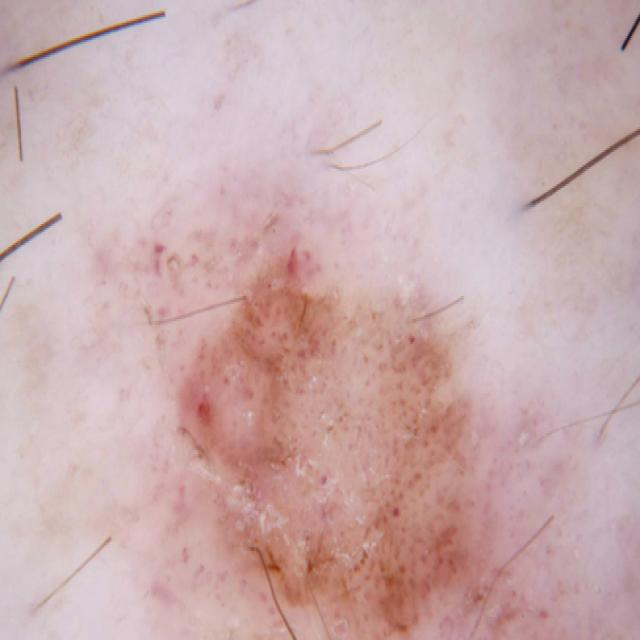Carcinoma: (164, 174, 505, 640)
